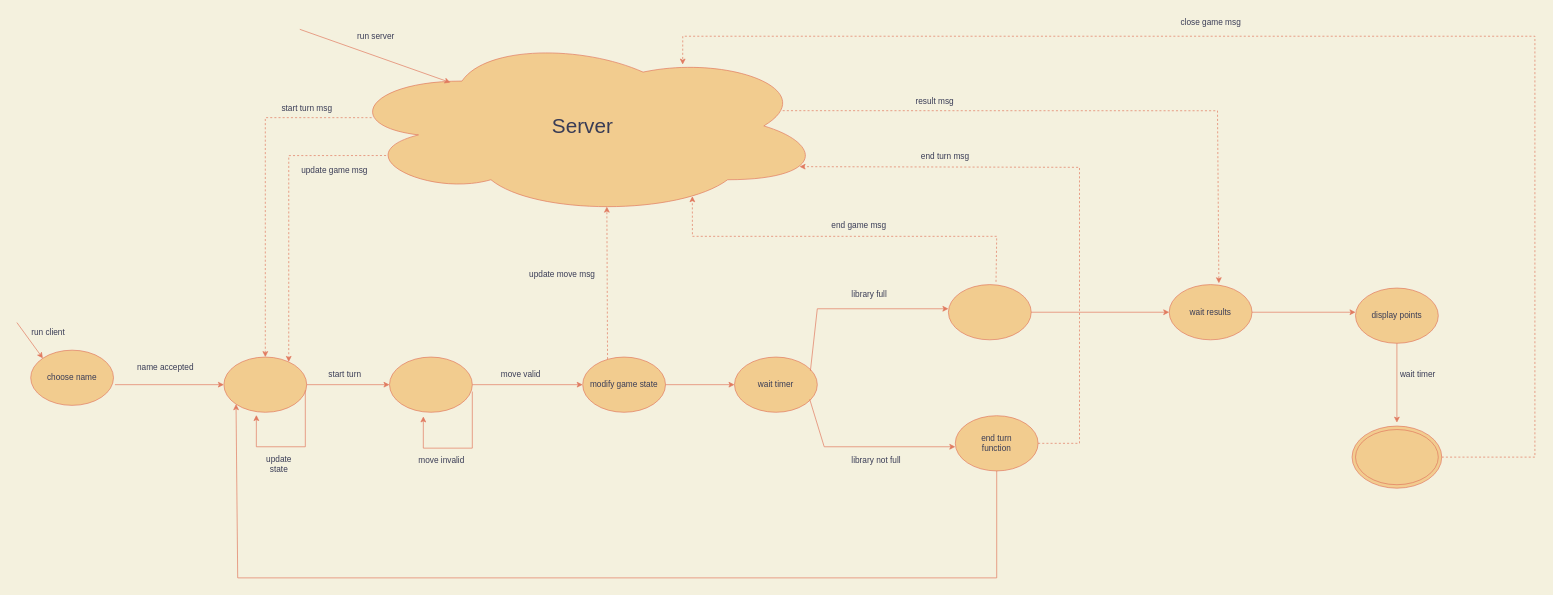
The diagram is 1553 pixels wide and 595 high, and some of its shapes have lost their labels. Here are the shapes that lost their labels. From the top down, the centre of each, then its label:
point 989,312: end game function
point 265,384: wait turn
point 430,384: wait move
point 1396,457: close client
